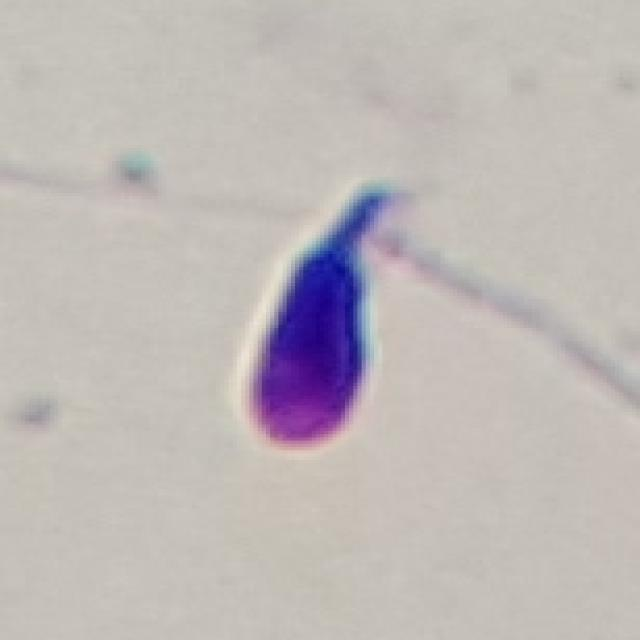abnormal sperm: (237, 177, 439, 453)
